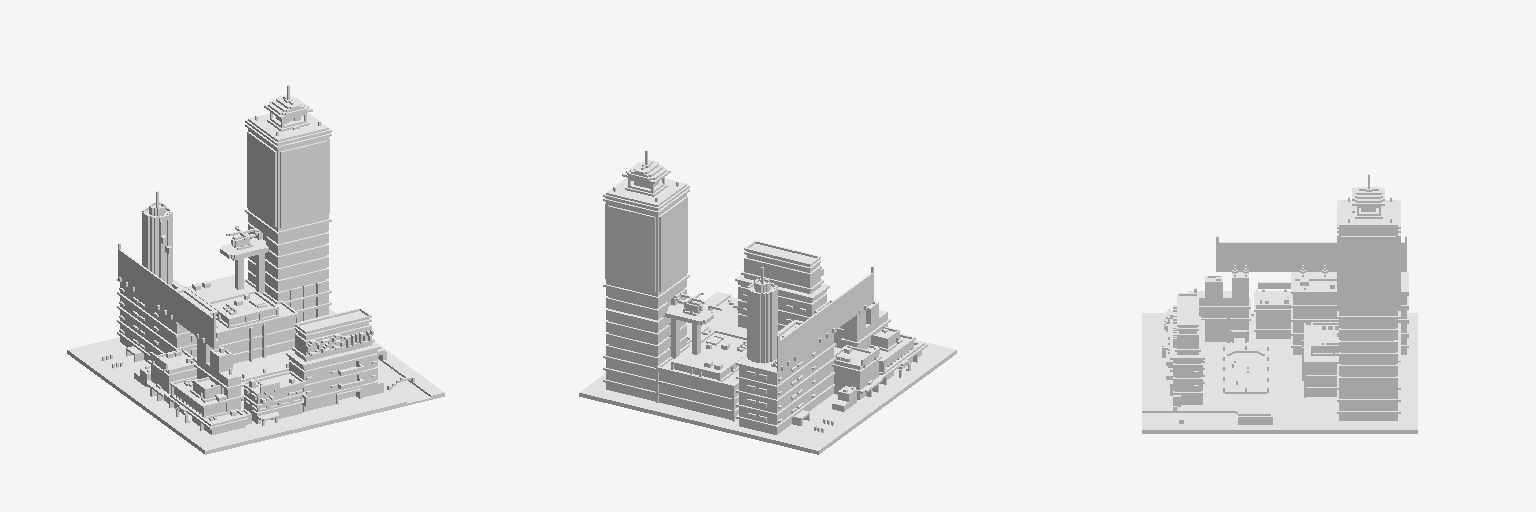
File: Shibuya.obj
3 views of the same model, side by side, from view 1: azimuth 30°, elevation 25°; view 2: azimuth 150°, elevation 25°; view 3: azimuth 270°, elevation 25° (orthographic).
Bounding box in the file's own units: 126 × 120 × 126.